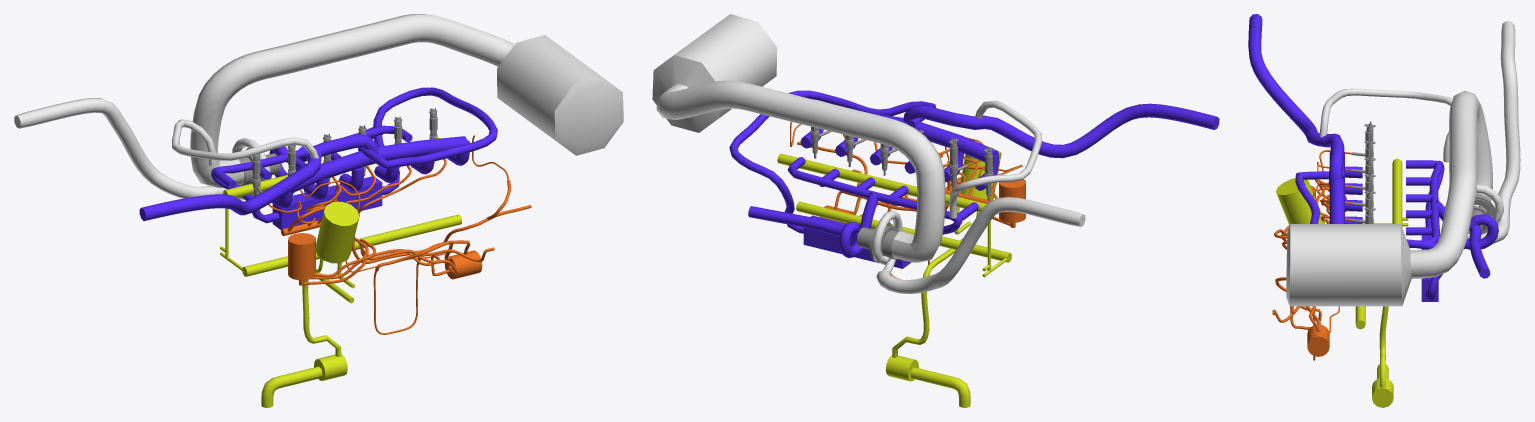
Rendered from Exxotest_Import_Fluide_Turbbo_Inject.FBX.
The picture shows the model from 3 angles, left to right: view 1: azimuth 30°, elevation 25°; view 2: azimuth 150°, elevation 25°; view 3: azimuth 270°, elevation 25°; orthographic projection. The views are drawn at different scales.
Visible parts, largest first — view 1: fluiode001, Cylinder033, Cylinder035, Cylinder034, Cylinder056, Refroiddissemnt EGR, Cylinder048, Cylinder057, fluide essence _rampecommune 04, fluide essence _rampecommune reservoir 02, Cylinder030, Cylinder031 (+5 smaller); view 2: fluiode001, Cylinder035, Cylinder033, Cylinder054, Cylinder048, Cylinder058, Cylinder057, Cylinder034, Refroiddissemnt EGR, Cylinder030, Cylinder031, fluide essence _rampecommune reservoir 02 (+4 smaller); view 3: fluiode001, Cylinder035, Cylinder033, Cylinder048, Cylinder054, Cylinder056, Cylinder034, Cylinder058, fluide essence _rampecommune reservoir 01, fluide essence _rampecommune 04, Cylinder032, Cylinder031 (+2 smaller).
Boxes of the visible parts, left/top/right/bottom form: fluiode001: left=14, top=14, right=623, bottom=199; Cylinder033: left=211, top=87, right=497, bottom=223; Cylinder035: left=139, top=134, right=378, bottom=220; Cylinder034: left=286, top=136, right=468, bottom=195; Cylinder056: left=316, top=201, right=359, bottom=263; Refroiddissemnt EGR: left=272, top=176, right=382, bottom=229; Cylinder048: left=171, top=119, right=318, bottom=166; Cylinder057: left=242, top=214, right=462, bottom=276; fluide essence _rampecommune 04: left=260, top=158, right=446, bottom=226; fluide essence _rampecommune reservoir 02: left=288, top=233, right=315, bottom=285; Cylinder030: left=261, top=366, right=322, bottom=407; Cylinder031: left=302, top=272, right=354, bottom=356; fluiode001: left=652, top=14, right=1085, bottom=293; Cylinder035: left=903, top=103, right=1219, bottom=158; Cylinder033: left=729, top=90, right=962, bottom=234; Cylinder054: left=748, top=192, right=878, bottom=258; Cylinder048: left=949, top=100, right=1041, bottom=218; Cylinder058: left=777, top=153, right=986, bottom=212; Cylinder057: left=796, top=201, right=1011, bottom=262; Cylinder034: left=867, top=112, right=998, bottom=164; Refroiddissemnt EGR: left=803, top=215, right=911, bottom=268; Cylinder030: left=910, top=367, right=970, bottom=407; Cylinder031: left=892, top=248, right=955, bottom=357; fluide essence _rampecommune reservoir 02: left=999, top=179, right=1025, bottom=227; fluiode001: left=1286, top=21, right=1520, bottom=306; Cylinder035: left=1248, top=14, right=1344, bottom=184; Cylinder033: left=1295, top=160, right=1468, bottom=300; Cylinder048: left=1319, top=88, right=1452, bottom=162; Cylinder054: left=1430, top=200, right=1498, bottom=278; Cylinder056: left=1276, top=178, right=1325, bottom=225; Cylinder034: left=1329, top=151, right=1344, bottom=223; Cylinder058: left=1392, top=158, right=1402, bottom=227; fluide essence _rampecommune reservoir 01: left=1307, top=324, right=1329, bottom=356; fluide essence _rampecommune 04: left=1310, top=150, right=1351, bottom=223; Cylinder032: left=1372, top=378, right=1393, bottom=407; Cylinder031: left=1379, top=306, right=1388, bottom=387.
Size of the model in its own units: 4656 by 2804 by 2281.
